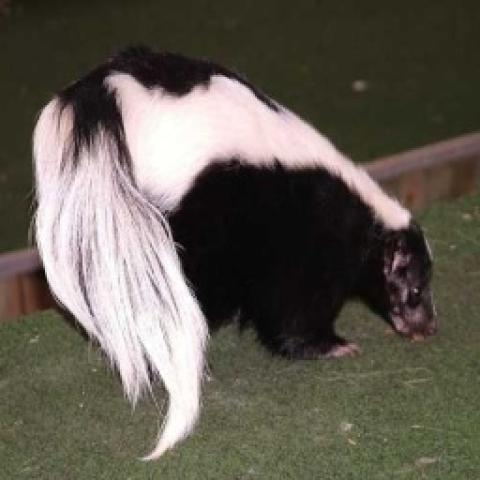small_animal: (30, 42, 440, 406)
